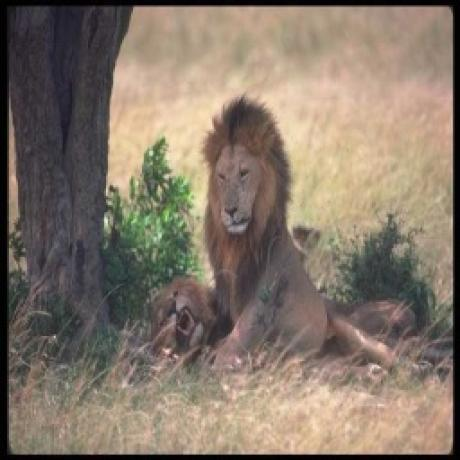Lion: (203, 95, 330, 364), (147, 272, 218, 365)
